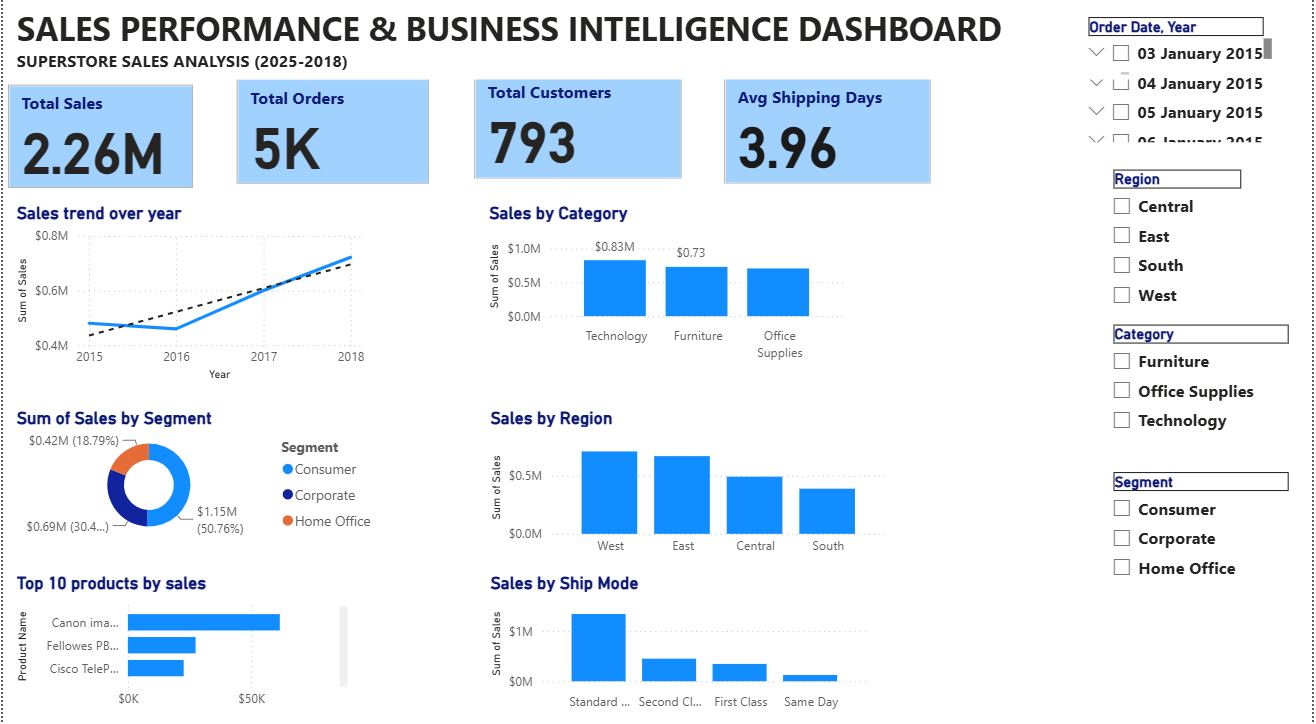

The dashboard page shown, as its layout file describes it:
{"tool":"powerbi","page":{"name":"Page 1","canvas":[1280,720],"ordinal":0},"visuals":[{"type":"cardVisual","title":"TOTAL SALES","fields":{"Data":["superstore.Total Sales"]},"box":[0,86.8,192,111.3],"z":0},{"type":"cardVisual","fields":{"Data":["superstore.Total Orders"]},"box":[223.8,80.7,198.1,113.7],"z":1000},{"type":"cardVisual","fields":{"Data":["superstore.Total Customers"]},"box":[456.1,74.6,214,114.9],"z":2000},{"type":"cardVisual","fields":{"Data":["superstore.Avg Shipping Days"]},"box":[700.7,79.5,212.8,114.9],"z":3000},{"type":"lineChart","title":"Sales trend over year","fields":{"Category":["superstore.Order Date.Variation.Date Hierarchy.Year","superstore.Order Date.Variation.Date Hierarchy.Quarter","superstore.Order Date.Variation.Date Hierarchy.Month","superstore.Order Date.Variation.Date Hierarchy.Day"],"Y":["Sum(superstore.Sales)"]},"box":[8.6,206.7,349.7,179.8],"z":4000},{"type":"clusteredColumnChart","title":"Sales by Category","fields":{"Category":["superstore.Category"],"Y":["Sum(superstore.Sales)"]},"box":[470.8,206.7,358.3,162.6],"z":5000},{"type":"clusteredColumnChart","title":"Sales by Region","fields":{"Category":["superstore.Region"],"Y":["Sum(superstore.Sales)"]},"box":[472,407.2,397.4,154.1],"z":6000},{"type":"donutChart","fields":{"Category":["superstore.Segment"],"Y":["Sum(superstore.Sales)"]},"box":[8.6,407.2,365.6,133.3],"z":7000},{"type":"barChart","title":"Top 10 products by sales","fields":{"Category":["superstore.Product Name"],"Y":["Sum(superstore.Sales)"]},"box":[8.6,568.6,333.8,141.8],"z":8000},{"type":"clusteredColumnChart","title":"Sales by Ship Mode","fields":{"Category":["superstore.Ship Mode"],"Y":["Sum(superstore.Sales)"]},"box":[472,568.6,379.1,141.8],"z":9000},{"type":"slicer","fields":{"Values":["superstore.Order Date","superstore.Order Date.Variation.Date Hierarchy.Year"]},"box":[1049.2,20.8,196.9,132.1],"z":10000},{"type":"slicer","fields":{"Values":["superstore.Region"]},"box":[1073.6,170,150.4,151.6],"z":11000},{"type":"slicer","fields":{"Values":["superstore.Category"]},"box":[1073.6,321.6,197,150],"z":12000},{"type":"slicer","fields":{"Values":["superstore.Segment"]},"box":[1073.6,465.9,197,150],"z":13000},{"type":"textbox","box":[687.2,198.1,162.6,66],"z":14000},{"type":"textbox","box":[957.5,74.6,149.2,12.2],"z":15000},{"type":"textbox","box":[8.6,9.8,1032.1,77],"z":15001}]}

Visuals, with their boxes in screenshot pixels (x1, y1, x2, y2), scaled from the page's 1280x720 canvas onto the 1316x724 screenshot:
"TOTAL SALES" cardVisual: bbox=(0, 87, 197, 199)
cardVisual - superstore.Total Orders: bbox=(230, 81, 434, 195)
cardVisual - superstore.Total Customers: bbox=(469, 75, 689, 191)
cardVisual - superstore.Avg Shipping Days: bbox=(720, 80, 939, 195)
"Sales trend over year" lineChart: bbox=(9, 208, 368, 389)
"Sales by Category" clusteredColumnChart: bbox=(484, 208, 852, 371)
"Sales by Region" clusteredColumnChart: bbox=(485, 409, 894, 564)
donutChart - superstore.Segment x Sum(superstore.Sales): bbox=(9, 409, 385, 544)
"Top 10 products by sales" barChart: bbox=(9, 572, 352, 714)
"Sales by Ship Mode" clusteredColumnChart: bbox=(485, 572, 875, 714)
slicer - superstore.Order Date x superstore.Order Date.Variation.Date Hierarchy.Year: bbox=(1079, 21, 1281, 154)
slicer - superstore.Region: bbox=(1104, 171, 1258, 323)
slicer - superstore.Category: bbox=(1104, 323, 1306, 474)
slicer - superstore.Segment: bbox=(1104, 468, 1306, 619)
textbox: bbox=(707, 199, 874, 266)
textbox: bbox=(984, 75, 1138, 87)
textbox: bbox=(9, 10, 1070, 87)
